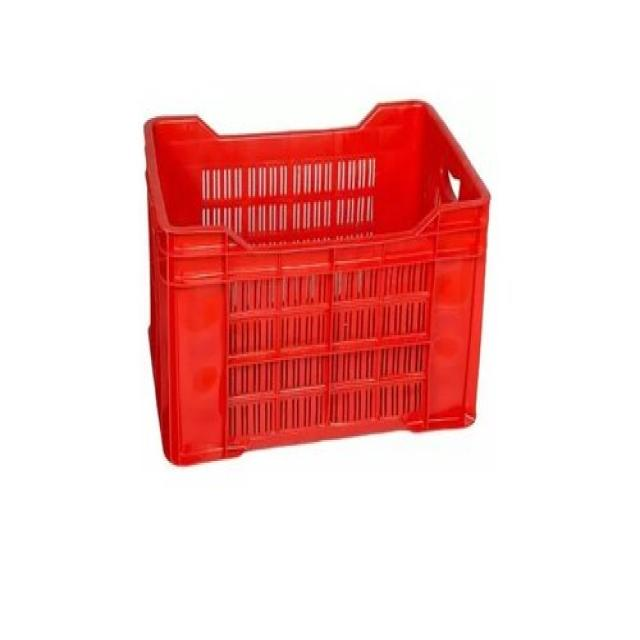basket: (124, 82, 518, 467)
